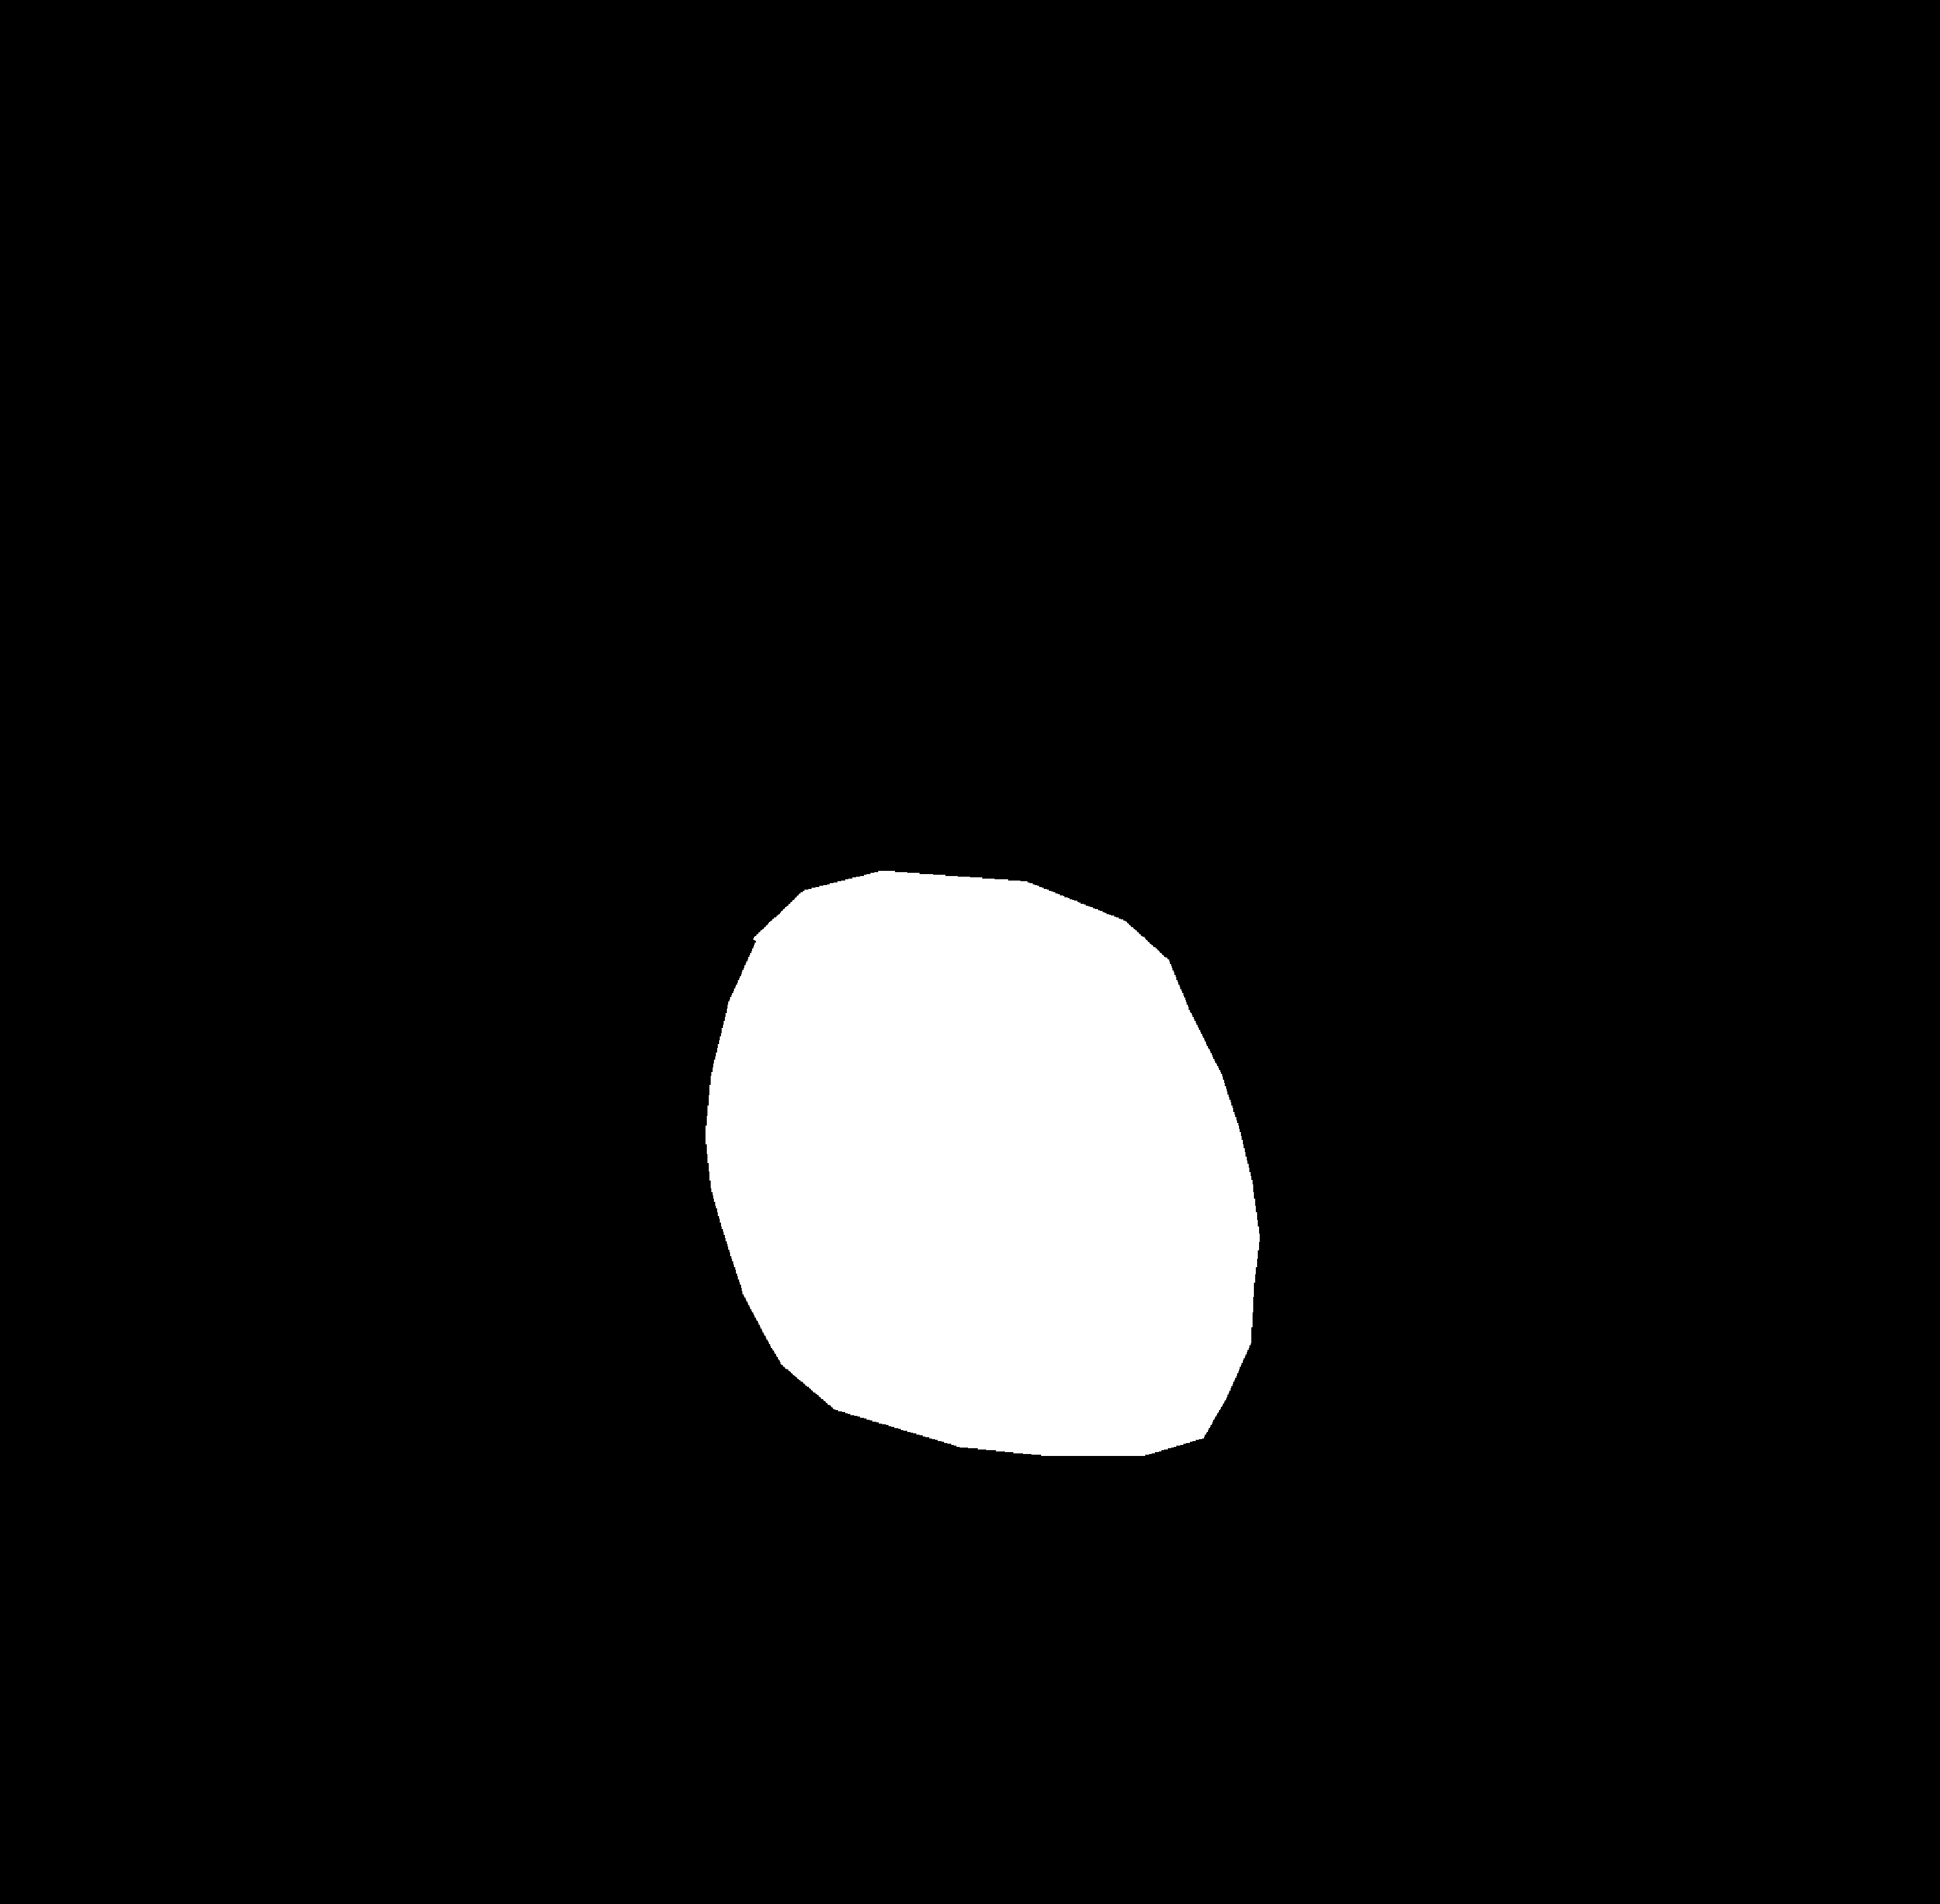heart: (588, 851, 1258, 1520)
left_lung: (318, 242, 864, 1609)
right_lung: (1042, 230, 1609, 1590)
